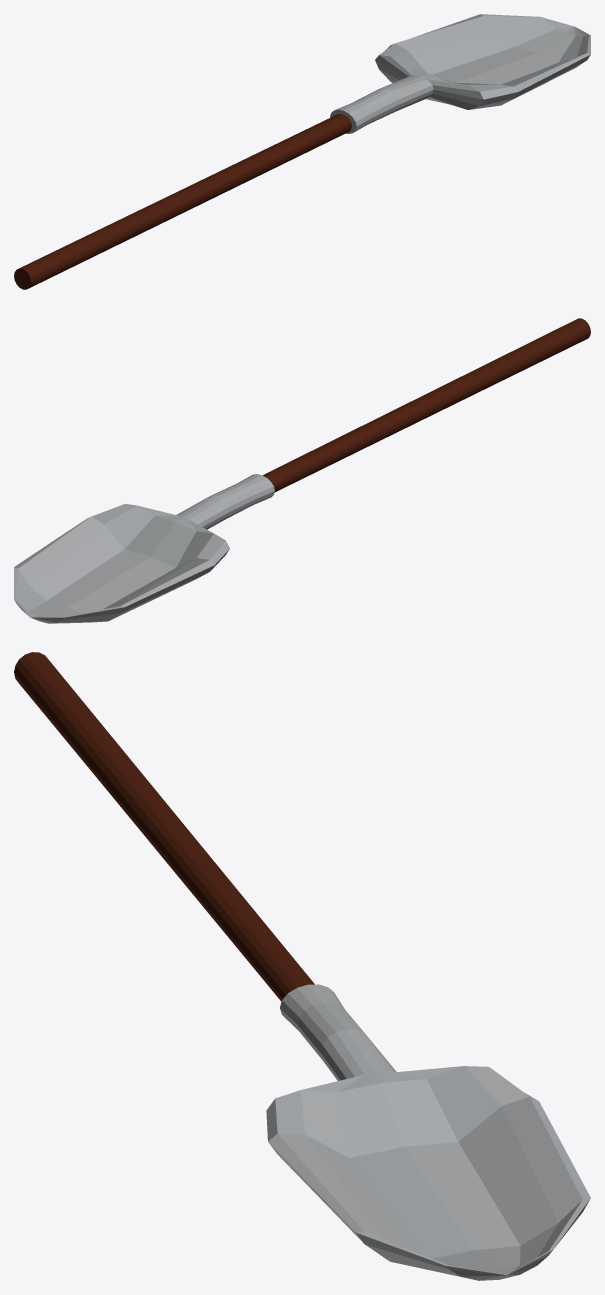
File: farm-shovel.fbx
3 renders of one model, top to bottom at view 1: azimuth 30°, elevation 25°; view 2: azimuth 210°, elevation 25°; view 3: azimuth 270°, elevation 25°, orthographic. The views are drawn at different scales.
Parts seen in each view (by area): view 1: Cylinder.370; view 2: Cylinder.370; view 3: Cylinder.370.
Part boxes in pixels (x1,y1,x2,y2): Cylinder.370: [14, 14, 590, 289]; Cylinder.370: [14, 318, 590, 623]; Cylinder.370: [14, 652, 590, 1280].
Size of the model in its own units: 371 by 23.27 by 157.
